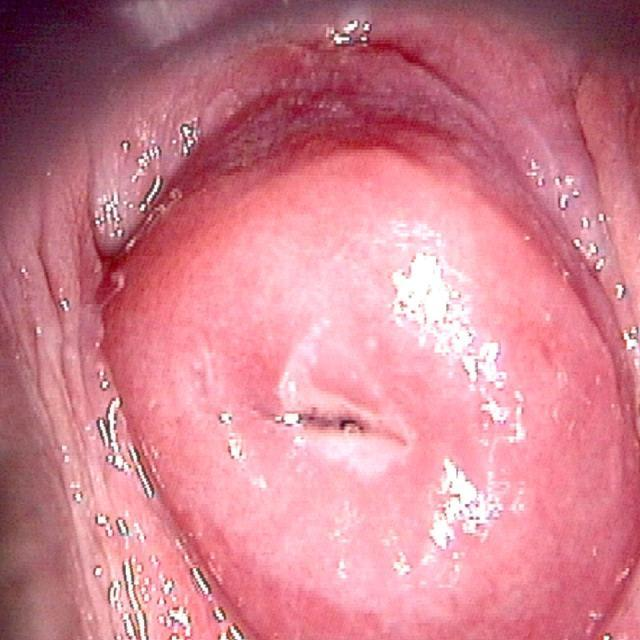cervical_lesion: (200, 187, 583, 636)
